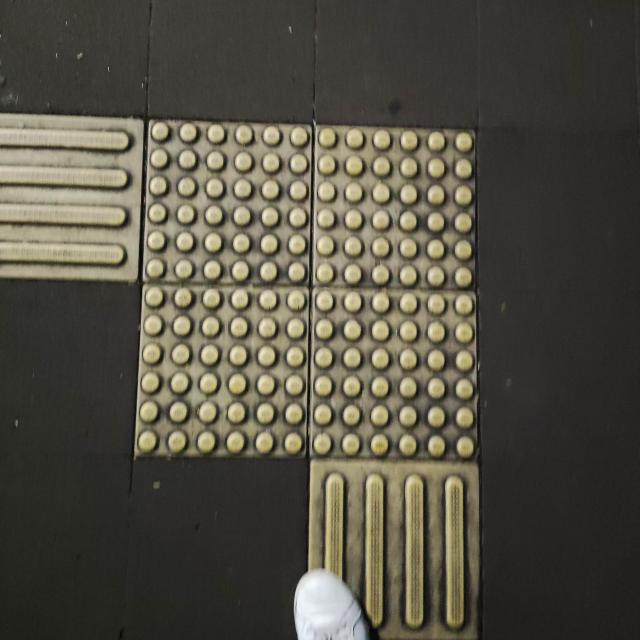kiri: (0, 111, 542, 640)
